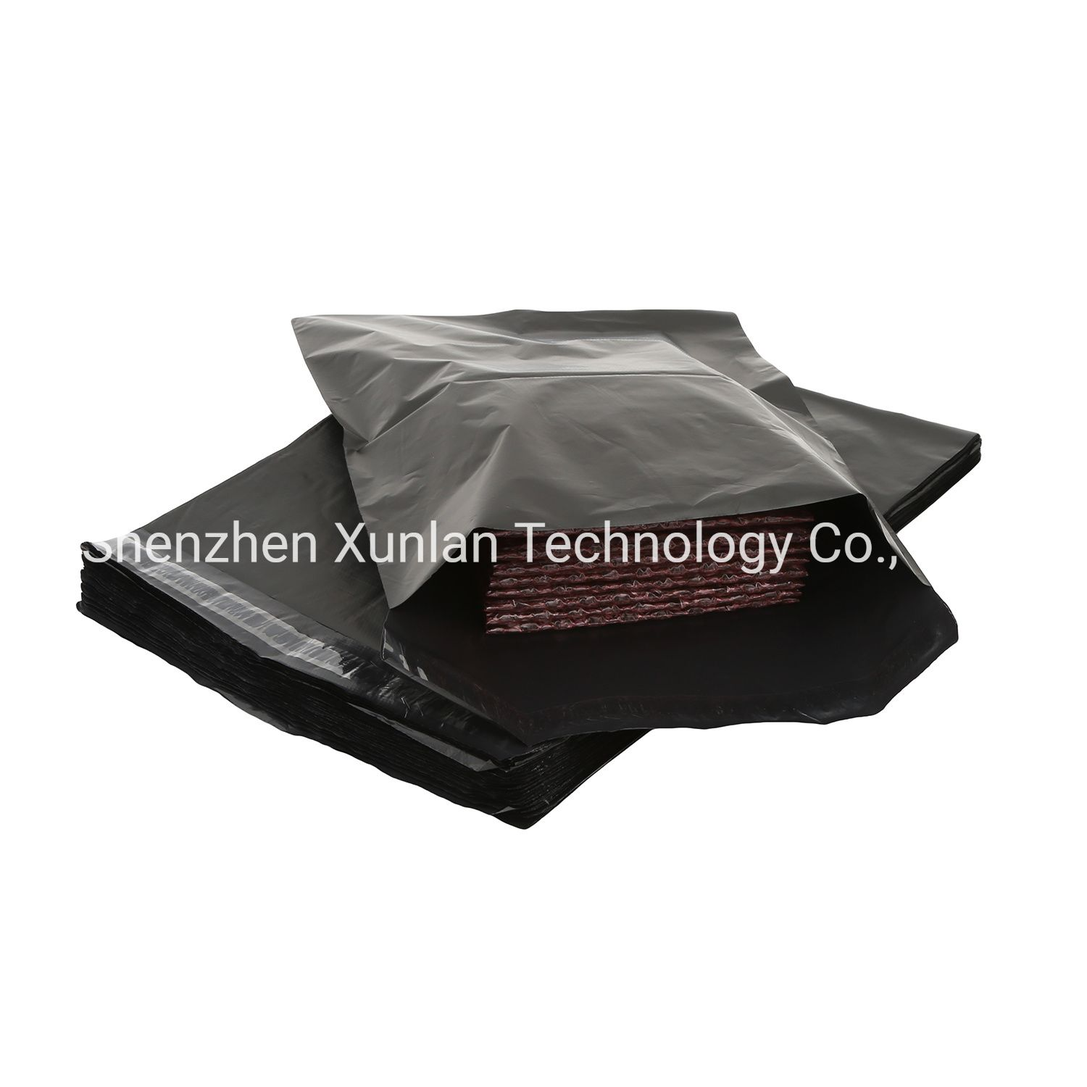Parcel: (77, 311, 981, 829)
